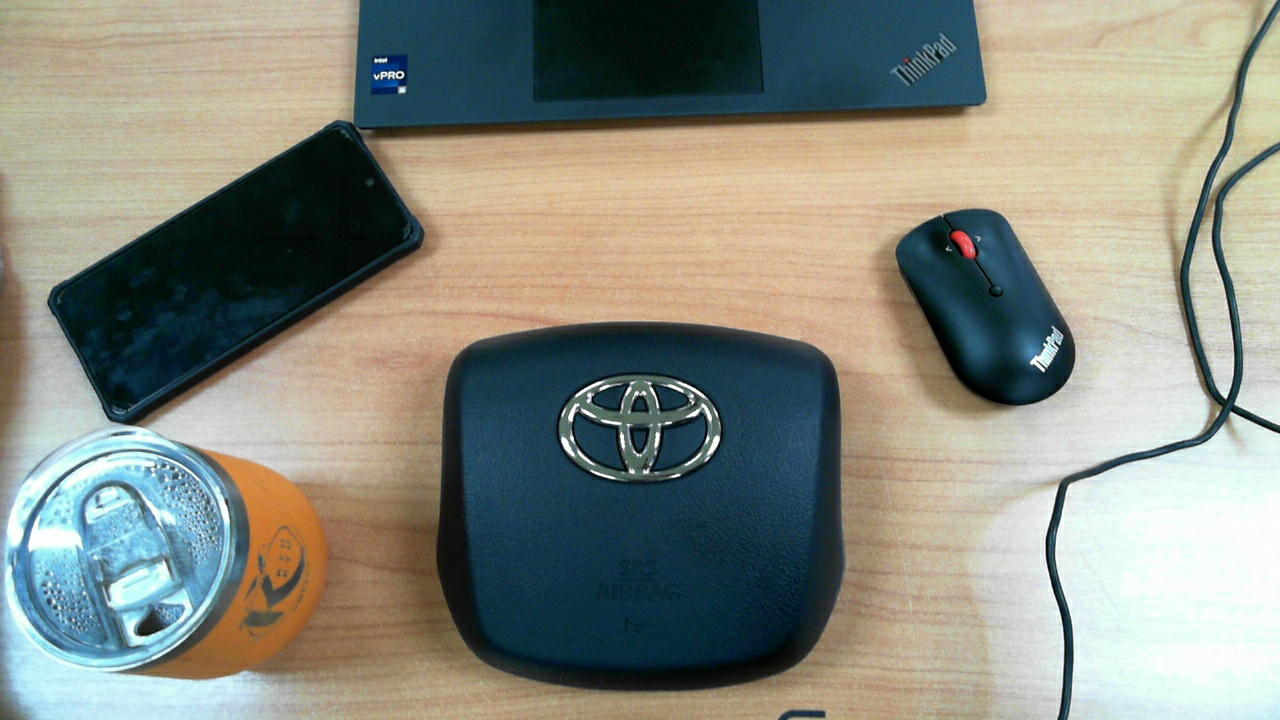Airbag: (405, 298, 870, 704)
